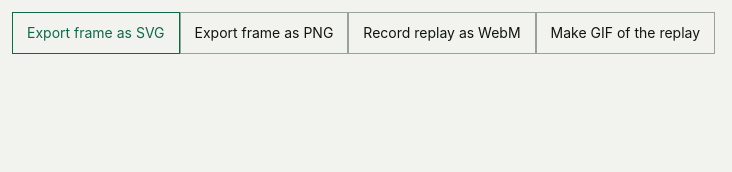
Test: with the switch on › exports the frame as a PNG, and the replay as a GIF over the whole range
Click the button "Export frame as PNG": (264, 33) 180,12 -> 348,54
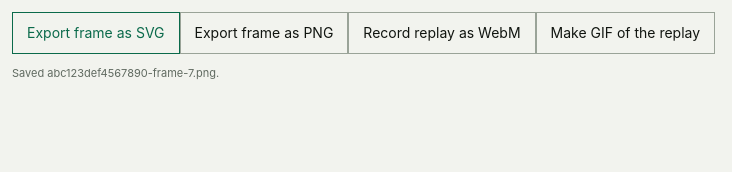
Click the button "Make GIF of the replay": (625, 33) 536,12 -> 715,54
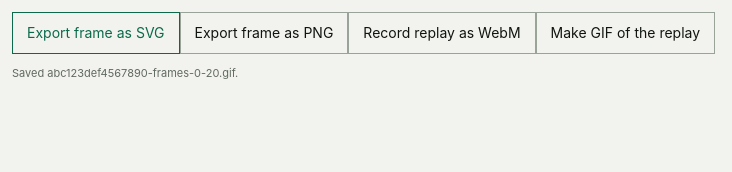
Expected: the message reads "Saved abc123def4567890-frames-0-20.gif.", 12,66 -> 238,80
